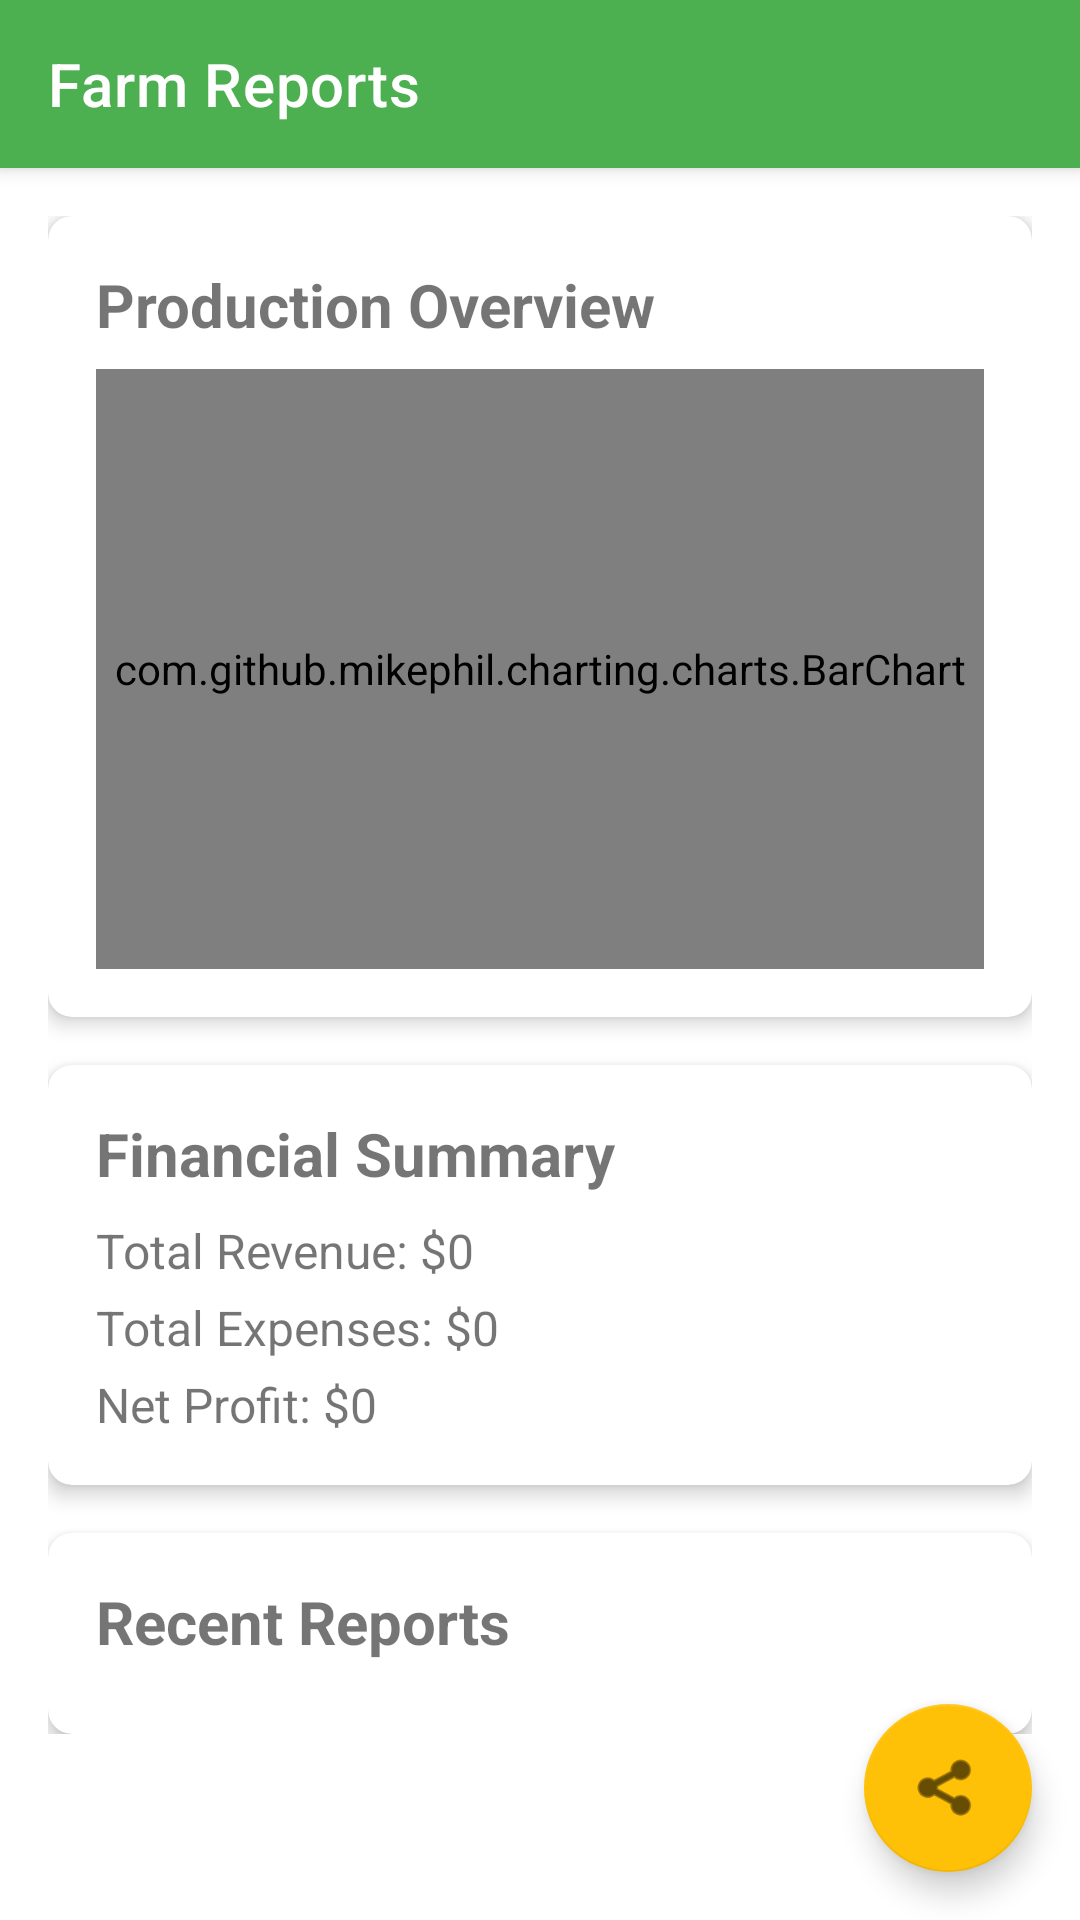

Point at icon controls on the screen. Image size 1080 × 1920, points as point (x, y).
share: point (948, 1788)
